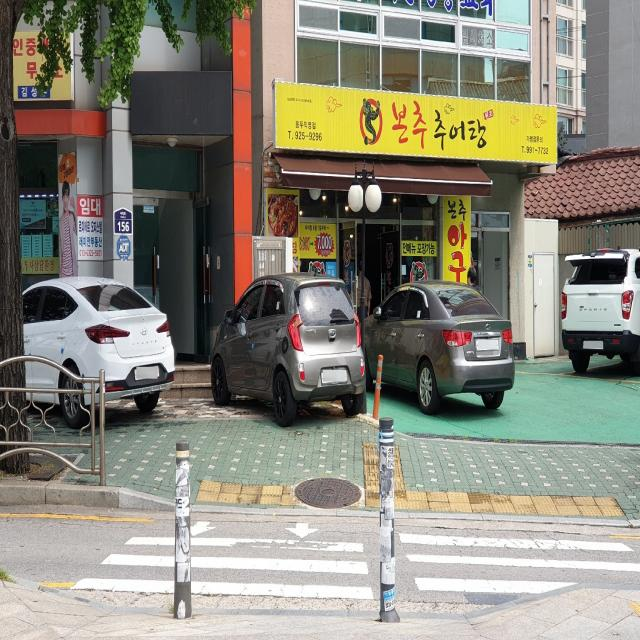횡단보도: (71, 522, 640, 602)
